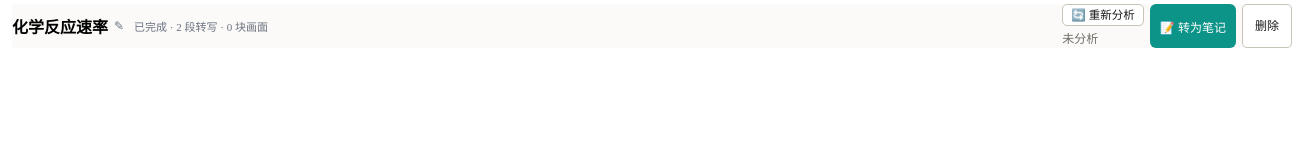
Test: D1 · 行为级（改前就该绿；粘性改动不许动这条路径） › D1-e 失败面未被顺手改动：reject ⇒ 留在改名态 + 错误行出现（逐字「改名失败: …」）
The image size is (1304, 160).
Step 1. Click the button with test id "session-rename-open" → [119, 26], box [114,19,124,33]
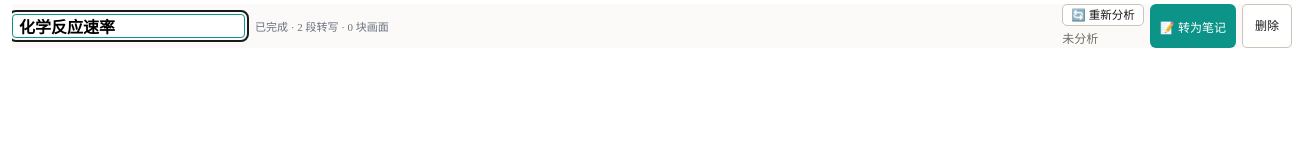
Step 2. Replace the text in the field with test id "session-title-input" with "新标题" → [128, 26], box [12,14,245,38]
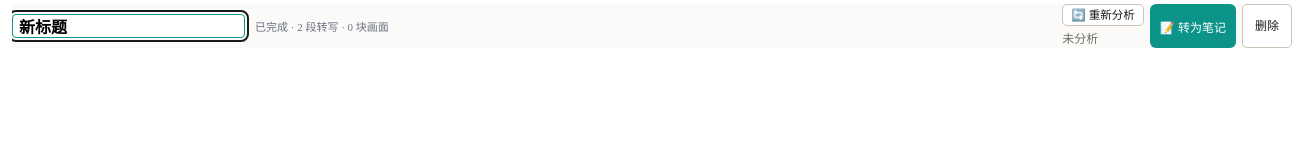
Step 3. Press Enter in the field with test id "session-title-input", box [12,14,245,38]
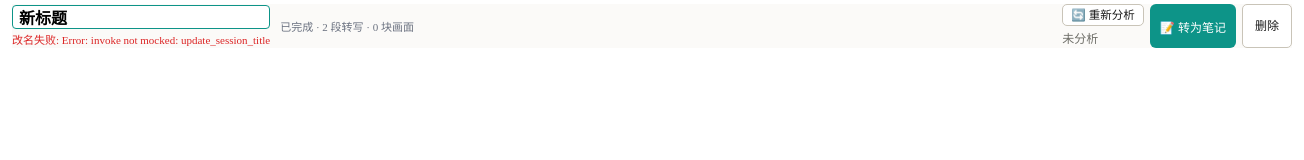
Expected: the text "改名失败: Error: invoke not mocked: update_session_title" is shown, [12,31,270,47]
